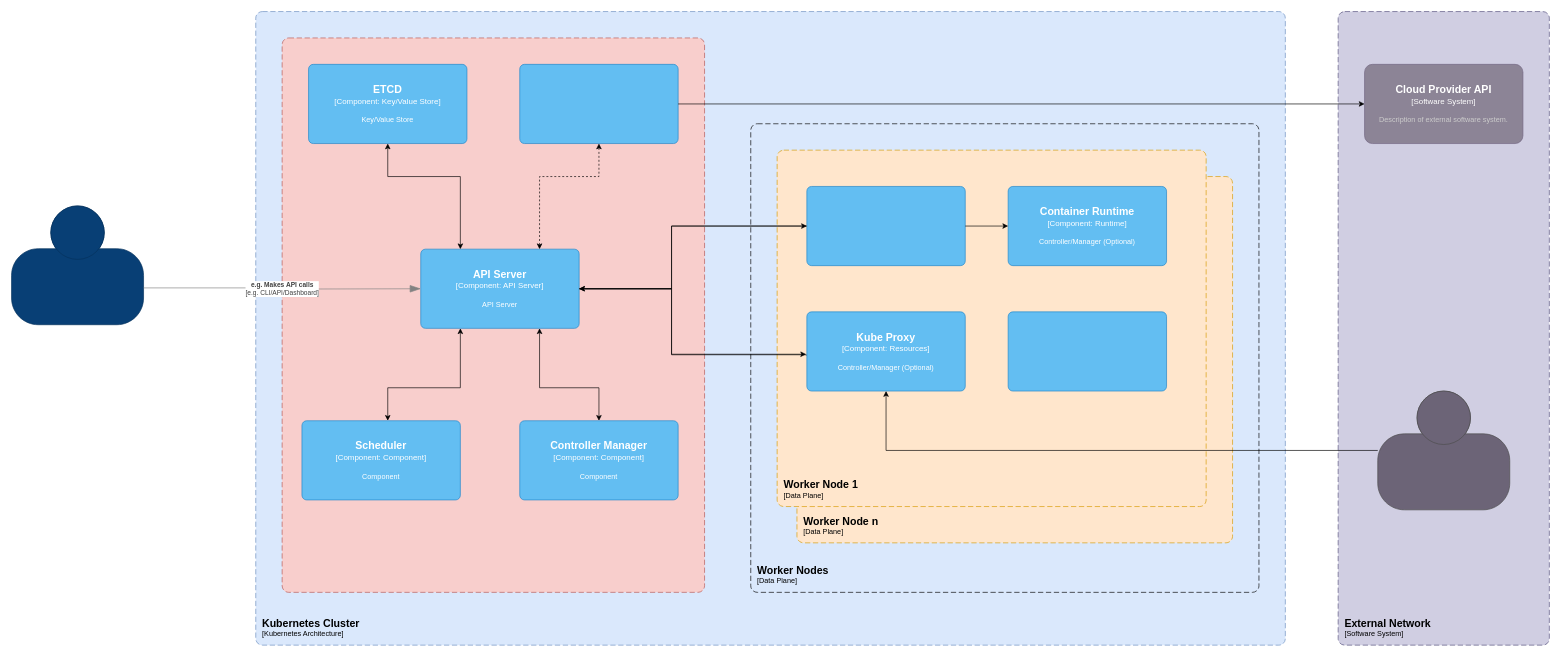
This 1561x657 diagram has some shape labels left out. The shapes that lost their labels are listed below. From the top down, each one's box as (x1, y1, x2, y2) in pixels, then its label:
(519, 64, 678, 144): Cloud Controller * [Component: Controller/Manager] Controller/Manager (Optional)
(806, 186, 965, 266): Kubelet [Component: Client] Controller/Manager (Optional)
(11, 205, 144, 325): Developer [Person] Description of person.
(281, 37, 705, 592): Master Node [Controll Plane]
(1007, 311, 1167, 391): Objects [Component: Resources] Kubernets Resources
(1377, 390, 1510, 510): External Users [Person] Description of external person.
